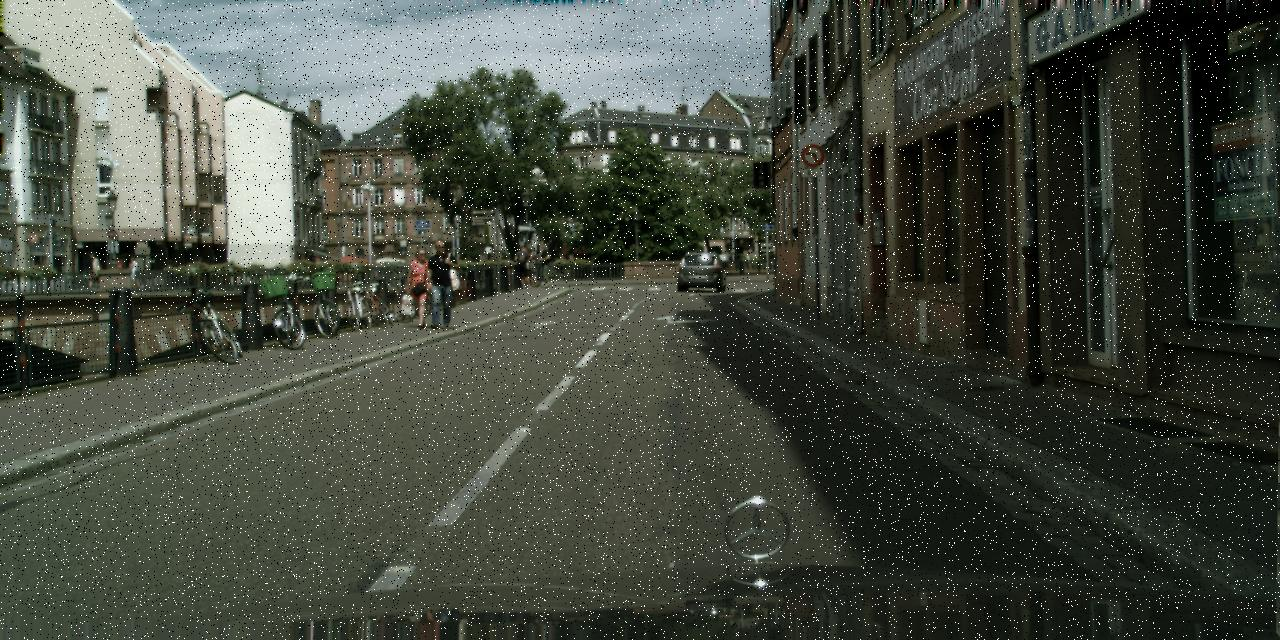ped: (423, 240, 458, 328), (406, 248, 438, 327), (515, 244, 533, 288), (536, 244, 553, 288), (86, 252, 102, 290), (524, 248, 540, 286), (128, 257, 140, 290), (744, 254, 750, 268), (751, 252, 756, 264)
